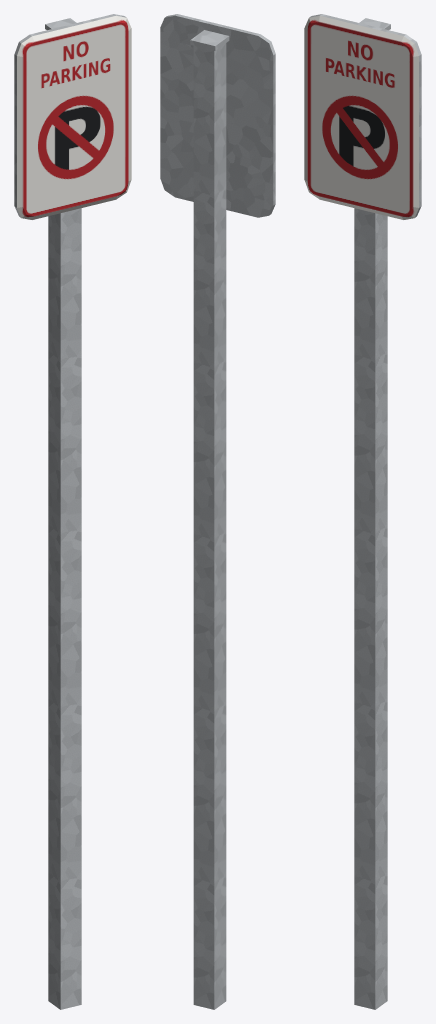
File: no_parking.gltf
3 renders of one model, left to right at view 1: azimuth 30°, elevation 25°; view 2: azimuth 150°, elevation 25°; view 3: azimuth 330°, elevation 25°, orthographic.
Parts seen in each view (by area): view 1: no_parking; view 2: no_parking; view 3: no_parking.
Boxes of the visible parts, <box> form: no_parking: <box>14,14,131,1009</box>; no_parking: <box>160,14,275,1009</box>; no_parking: <box>304,14,421,1009</box>.
Size of the model in its own units: 0.345 by 2.83 by 0.0943.
Materials: 2 (2 with a texture image).
